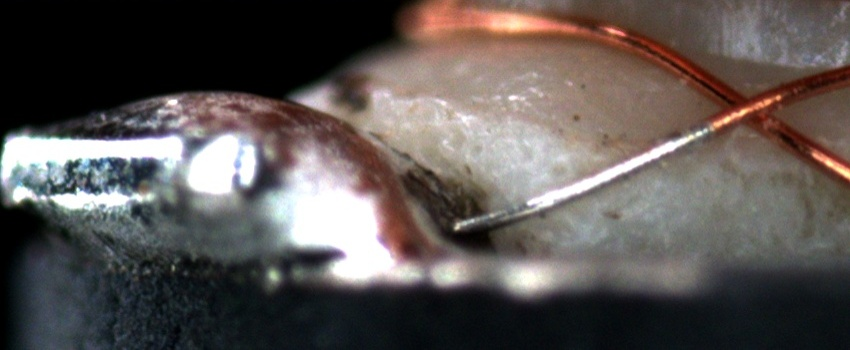CL: (698, 79, 795, 140)
TS: (449, 119, 713, 234)
